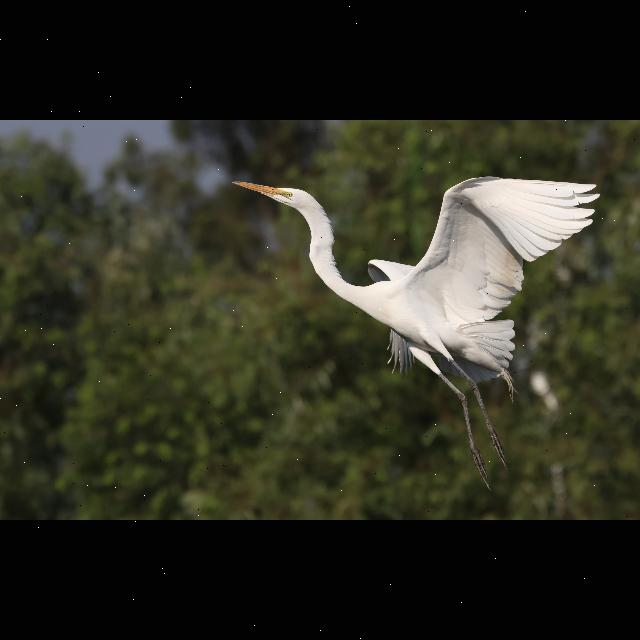egret: (223, 148, 604, 408)
